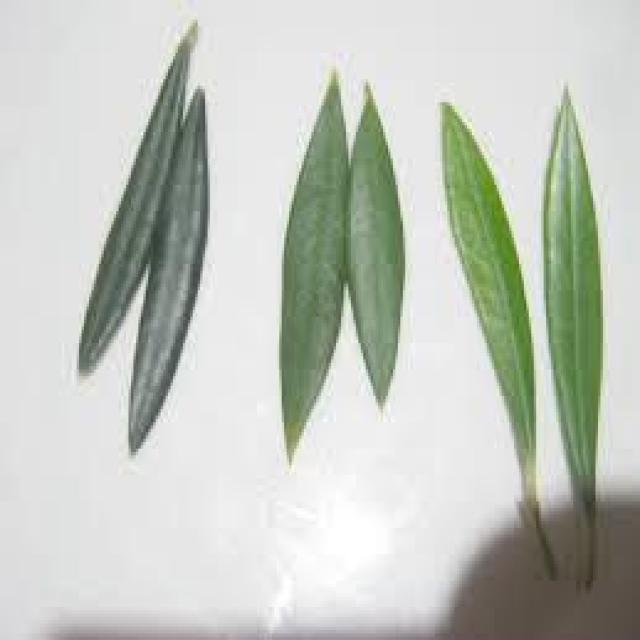Healthy: (440, 102, 554, 577), (77, 23, 195, 373), (544, 86, 600, 591), (131, 89, 208, 452), (279, 73, 348, 462), (348, 82, 403, 416)
